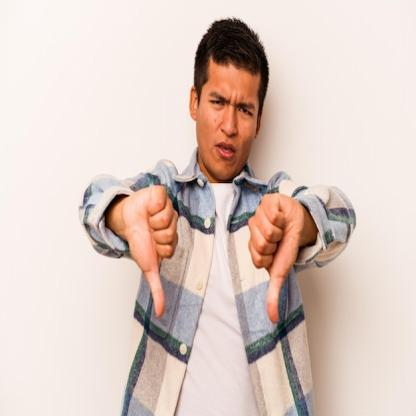thumb_down: (121, 181, 180, 320), (246, 190, 304, 326)
